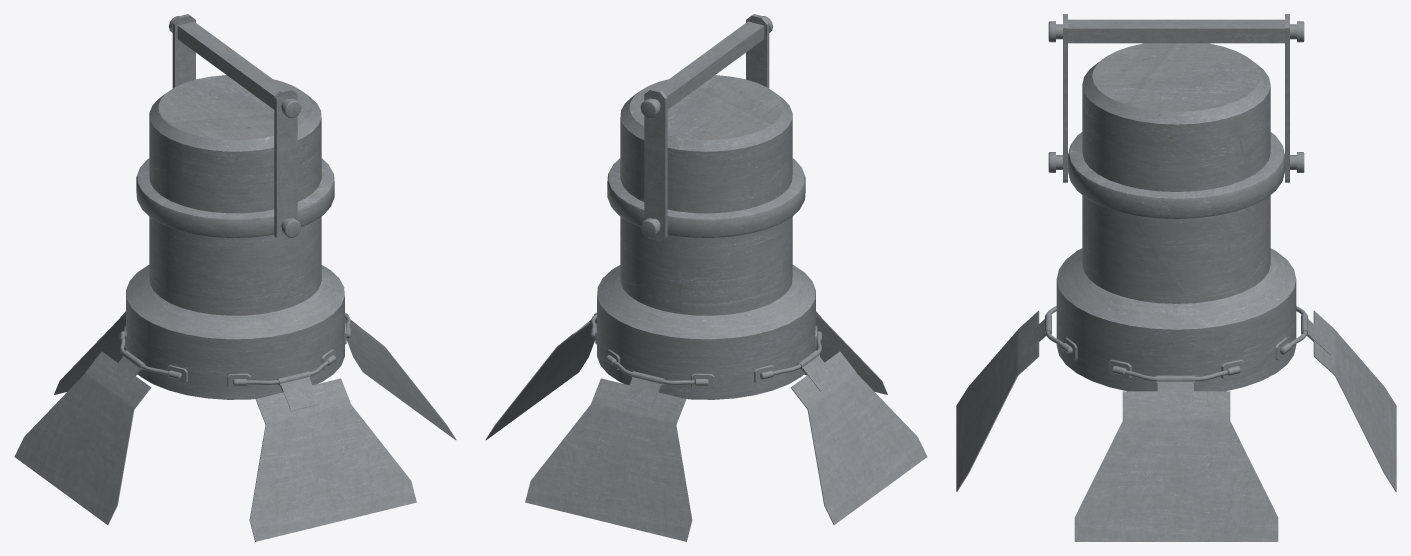
The model's file is lamp02.fbx.
The picture shows the model from 3 angles, left to right: view 1: azimuth 30°, elevation 25°; view 2: azimuth 150°, elevation 25°; view 3: azimuth 270°, elevation 25°; orthographic projection. The views are drawn at different scales.
Visible parts, largest first — view 1: Mesh; view 2: Mesh; view 3: Mesh.
Part boxes in pixels (left/top/right/bottom): Mesh: left=14, top=14, right=456, bottom=541; Mesh: left=485, top=14, right=927, bottom=541; Mesh: left=956, top=14, right=1396, bottom=541.
Bounding box in the file's own units: 78.06 × 84.54 × 78.06.
